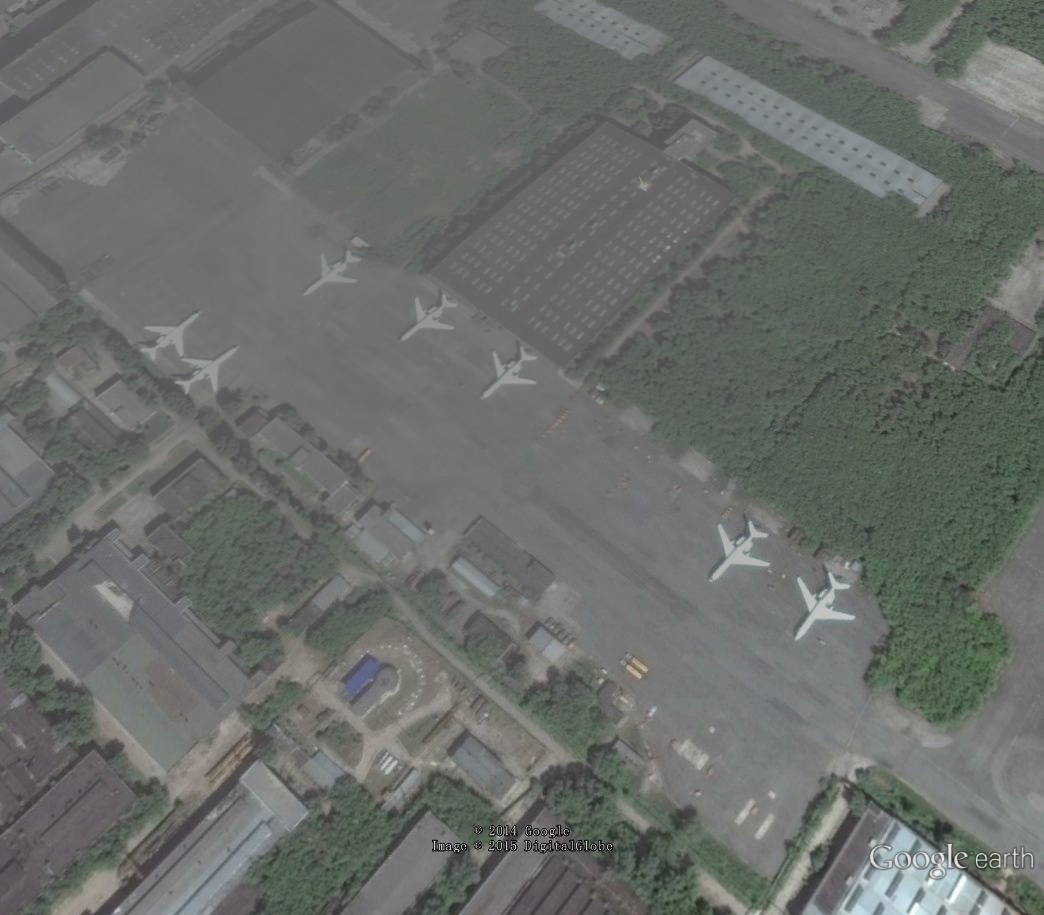aircraft: (794, 562, 860, 645), (707, 512, 777, 584), (479, 341, 542, 402), (175, 345, 243, 398), (139, 308, 204, 363), (301, 245, 364, 299), (399, 290, 460, 343)
